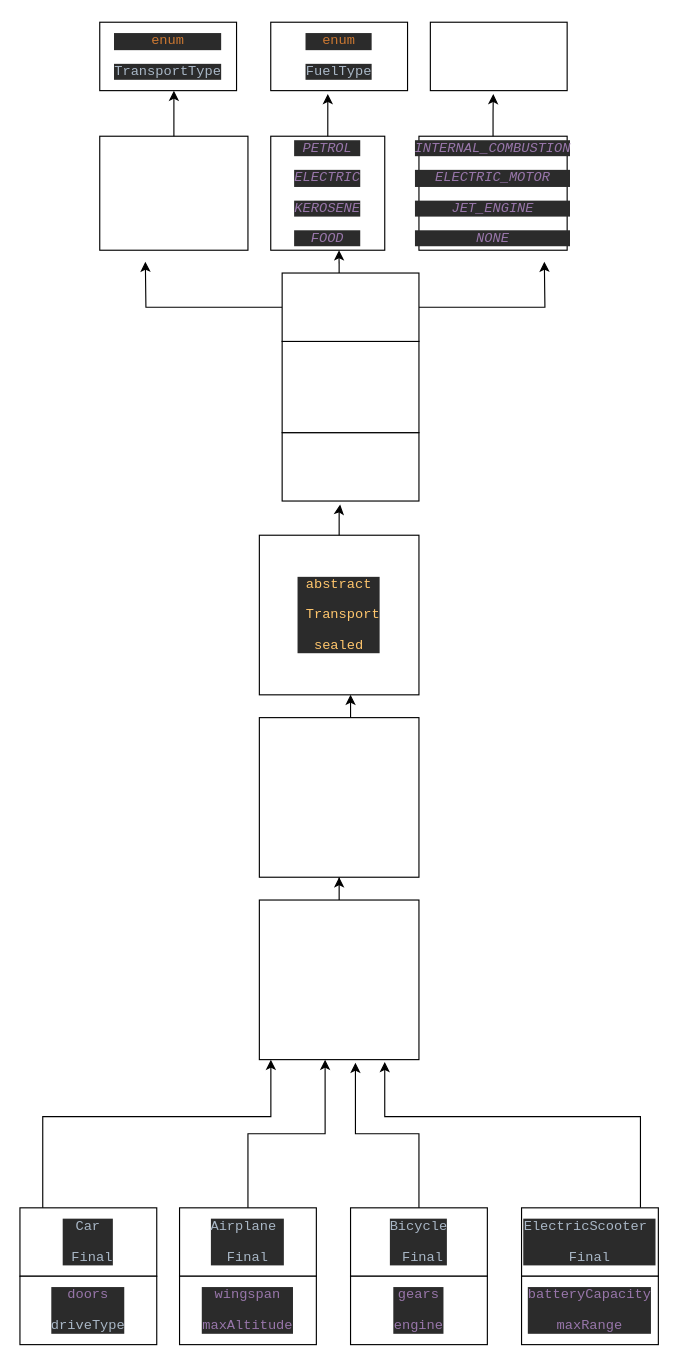
This 678x1367 diagram has some shape labels left out. Here are the shapes that lost their labels. From the top down, the centre of each, then its label:
At [498,56]: "enum EngineType".
At [173,192]: "CAR PLAIN ELECTROSCUTER BICYCLE".
At [350,306]: "Engine".
At [350,386]: "Type speed fuelType".
At [350,466]: "getInfo ()".
At [338,796]: "model year engine currentSpeed".
At [338,979]: "start () stop () getInfo () accelerate () brake ()".
